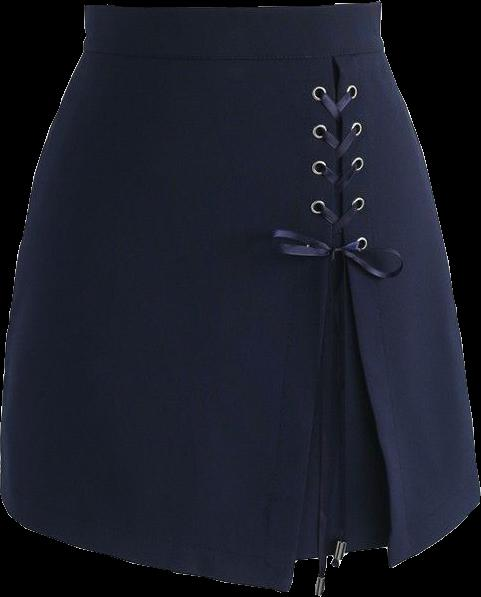Hemline: (0, 496, 480, 596)
Waistline: (80, 43, 384, 65), (83, 0, 380, 14)
